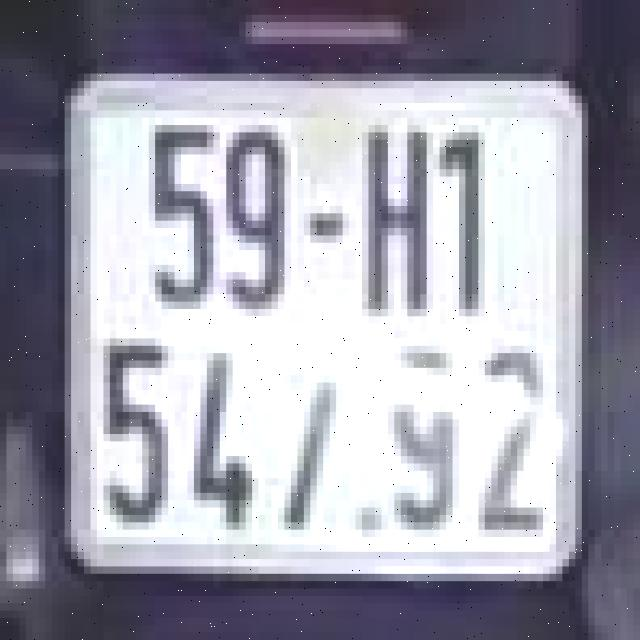1: (440, 125, 498, 316)
2: (475, 335, 566, 533)
4: (188, 338, 265, 544)
5: (94, 331, 178, 530), (146, 114, 217, 320)
7: (281, 323, 365, 530)
9: (378, 331, 469, 530), (223, 125, 294, 309)
H: (352, 110, 430, 316)
